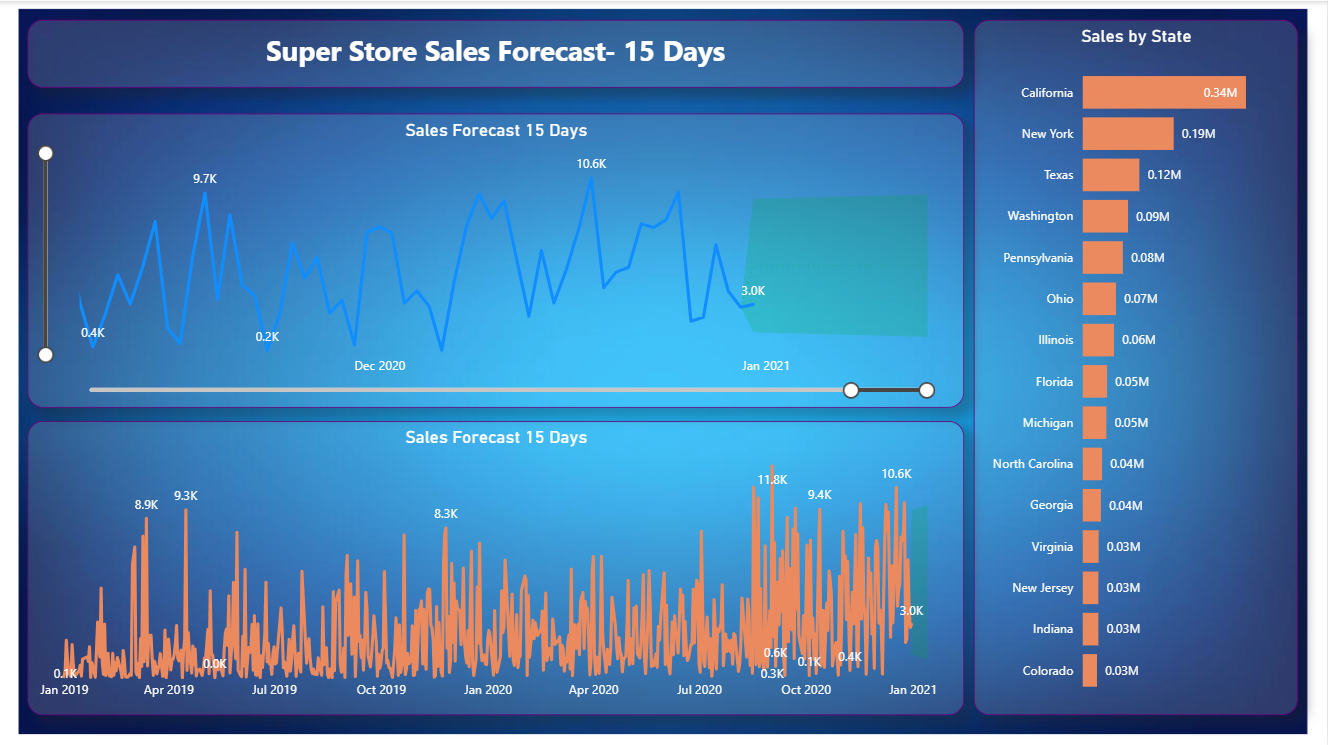

Layout of this report page (visuals, bound fields, positions):
{"tool":"powerbi","page":{"name":"Page 2","canvas":[1280,720],"ordinal":1},"visuals":[{"type":"lineChart","title":"Sales Forecast 15 Days","fields":{"Y":["Sum(SuperStore_Sales_Dataset.Sales)"],"Category":["SuperStore_Sales_Dataset.Order Date"]},"box":[26.2,405.4,903.6,283.8],"z":0},{"type":"lineChart","title":"Sales Forecast 15 Days","fields":{"Y":["Sum(SuperStore_Sales_Dataset.Sales)"],"Category":["SuperStore_Sales_Dataset.Order Date"]},"box":[26.2,108.5,903.6,283.8],"z":1000},{"type":"clusteredBarChart","title":"Sales by State","fields":{"Category":["SuperStore_Sales_Dataset.State"],"Y":["Sum(SuperStore_Sales_Dataset.Sales)"]},"box":[940.3,18.3,312.5,670.9],"z":2000},{"type":"textbox","box":[26.2,18.3,903.6,65.4],"z":3000}]}

Visuals, with their boxes in screenshot pixels (x1, y1, x2, y2), scaled from the page's 1280x720 canvas onto the 1328x745 screenshot:
"Sales Forecast 15 Days" lineChart: detection(27, 419, 965, 713)
"Sales Forecast 15 Days" lineChart: detection(27, 112, 965, 406)
"Sales by State" clusteredBarChart: detection(976, 19, 1300, 713)
textbox: detection(27, 19, 965, 87)
